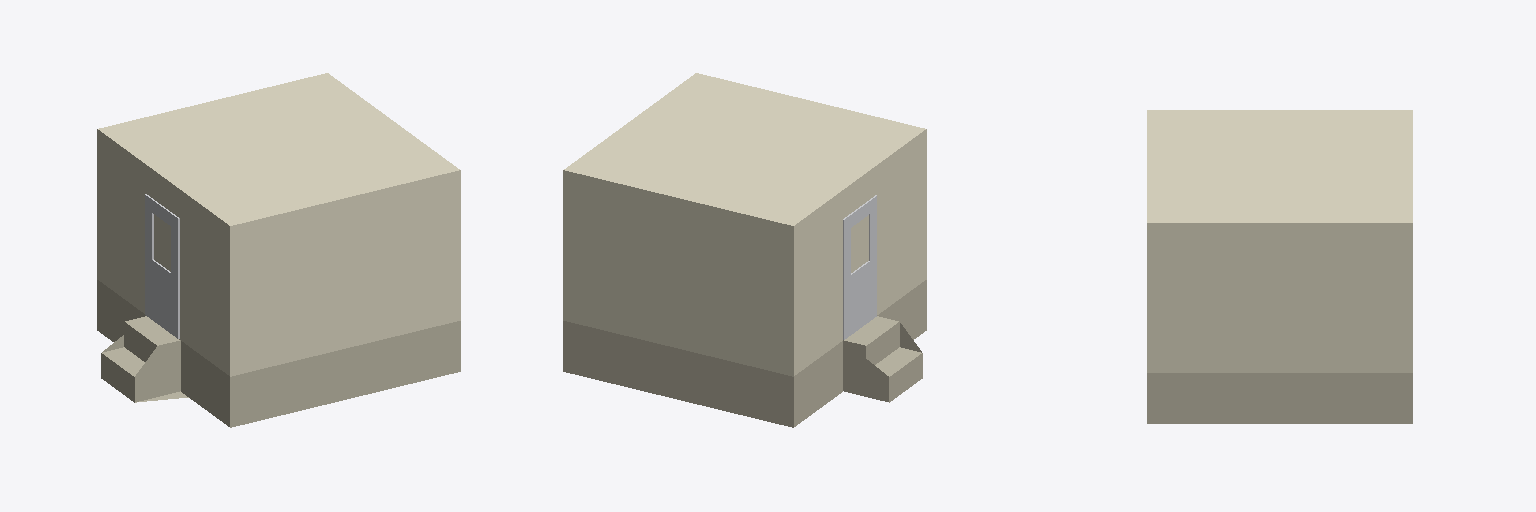
Rendered from modularBuildings_027.obj.
3 views of the same model, side by side, from view 1: azimuth 30°, elevation 25°; view 2: azimuth 150°, elevation 25°; view 3: azimuth 270°, elevation 25° (orthographic).
Visible parts, largest first — view 1: Mesh1_Group1_Model, Mesh1_Group1_Model.001; view 2: Mesh1_Group1_Model, Mesh1_Group1_Model.001; view 3: Mesh1_Group1_Model.
Boxes of the visible parts, <box> form: Mesh1_Group1_Model: <box>97,73,460,427</box>; Mesh1_Group1_Model.001: <box>145,194,179,338</box>; Mesh1_Group1_Model: <box>563,73,926,427</box>; Mesh1_Group1_Model.001: <box>843,195,876,339</box>; Mesh1_Group1_Model: <box>1147,110,1412,423</box>.
Bounding box in the file's own units: 1.2 × 0.8375 × 1.